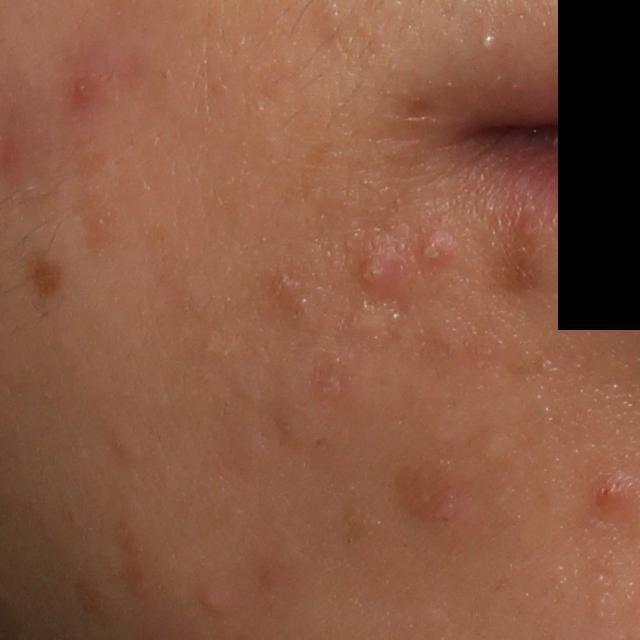comedo: (107, 416, 137, 462)
hypertrophic_scar: (350, 302, 399, 346)
papule: (413, 487, 468, 528), (585, 473, 628, 518), (420, 234, 451, 267), (201, 590, 223, 613)
pustule: (480, 31, 499, 55)
